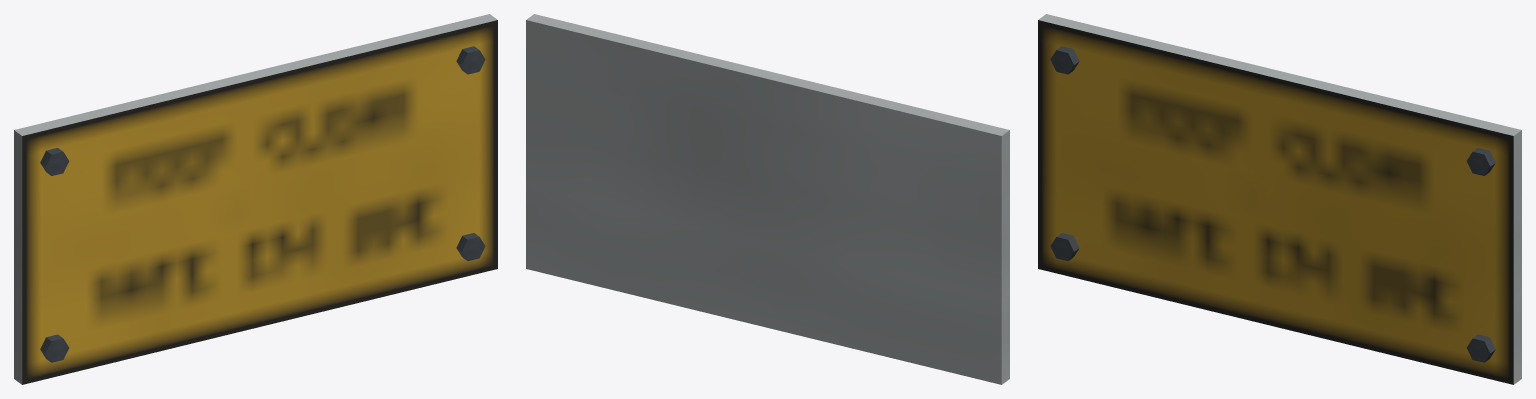
Rendered from sign_keep_clear.fbx.
3 views of the same model, side by side, from view 1: azimuth 30°, elevation 25°; view 2: azimuth 150°, elevation 25°; view 3: azimuth 330°, elevation 25° (orthographic).
Visible parts, largest first — view 1: sign_keep_clear; view 2: sign_keep_clear; view 3: sign_keep_clear.
Boxes of the visible parts, x1,y1,x2,y2 form: sign_keep_clear: (14, 14, 497, 384); sign_keep_clear: (526, 14, 1009, 384); sign_keep_clear: (1038, 14, 1521, 384).
Size of the model in its own units: 0.4 by 0.2 by 0.02.
Materials: 1 (1 with a texture image).
